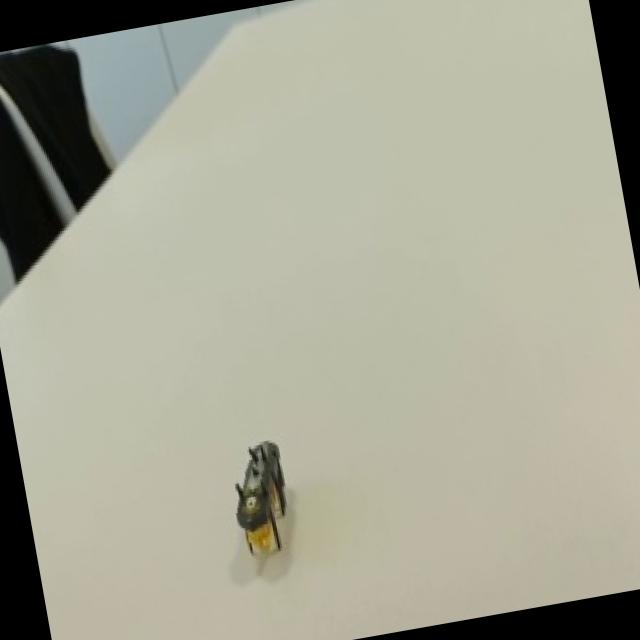6_NanoBug_GrisOscuro: (182, 396, 326, 576)
